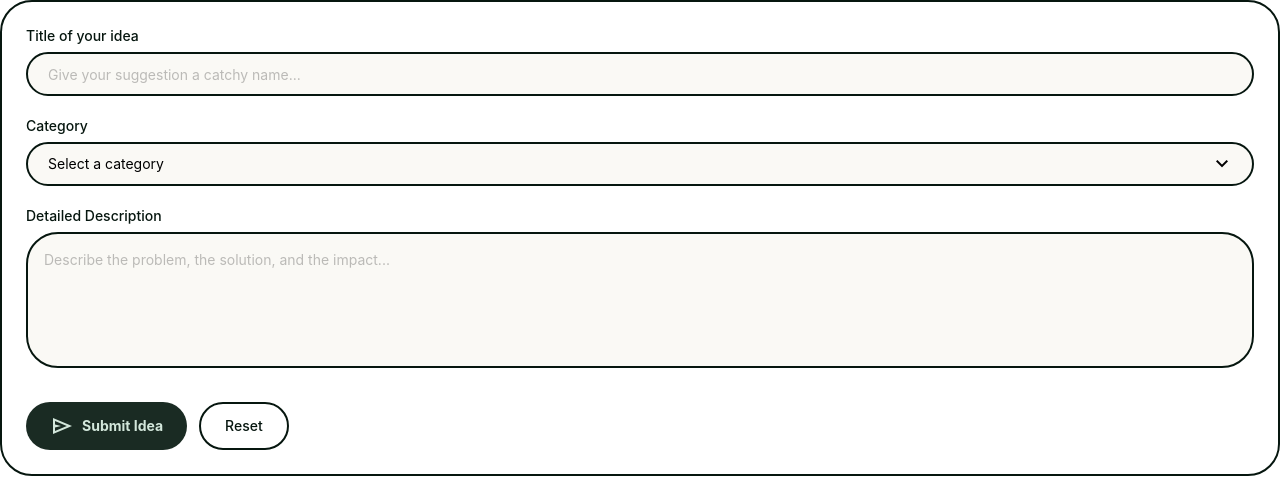
Test: SuggestForm › reset button clears the form
Type "Test" into the field with id "suggest-title" at x=640, y=74, box [26,52,1254,96]
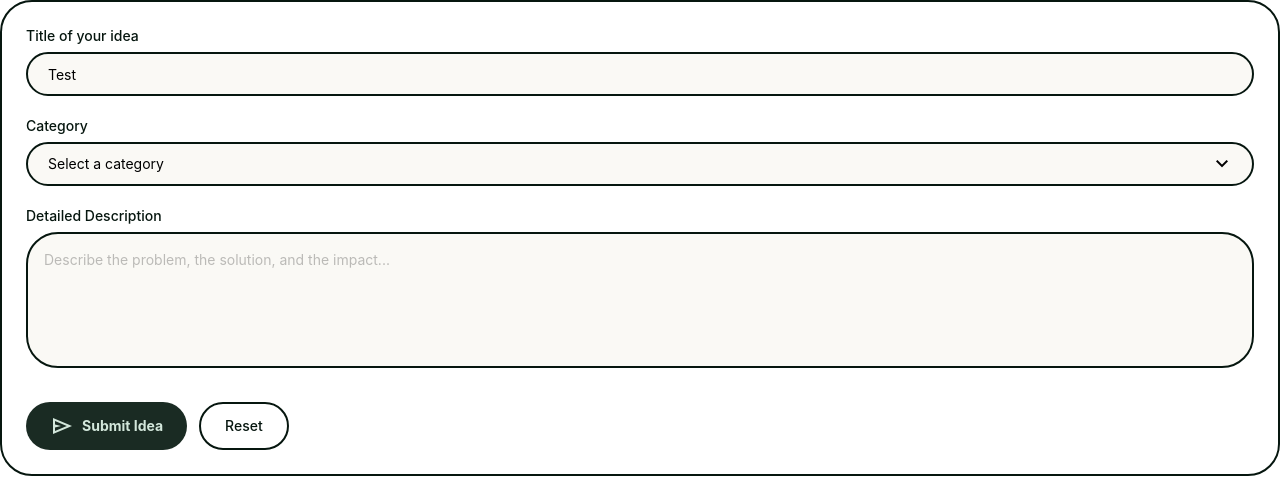
Click the button "Reset" at x=244, y=426, box [199,402,289,450]
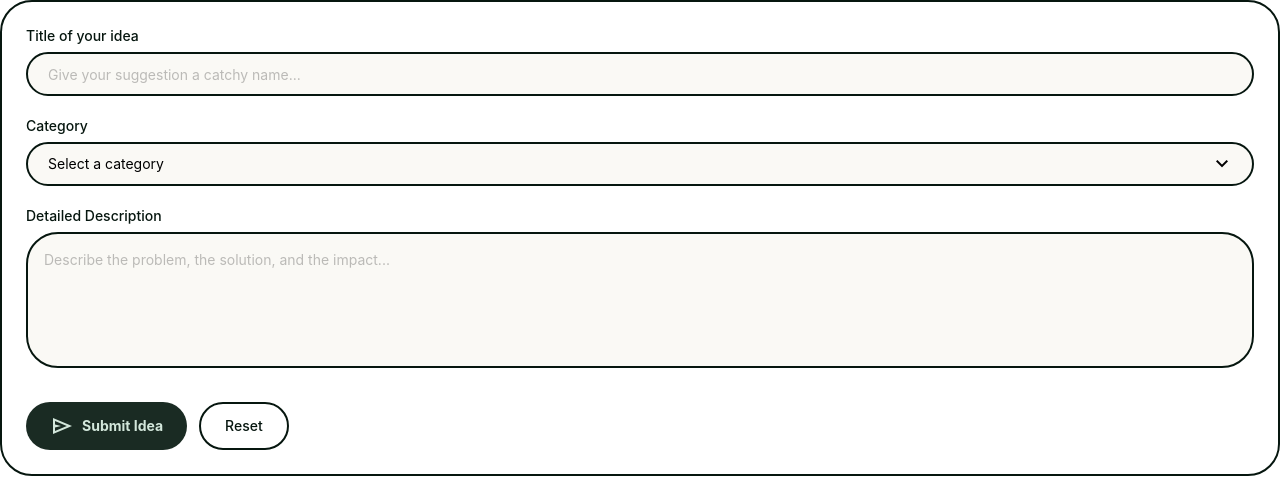
Expected: the field with id "suggest-title" is empty, [26,52,1254,96]
